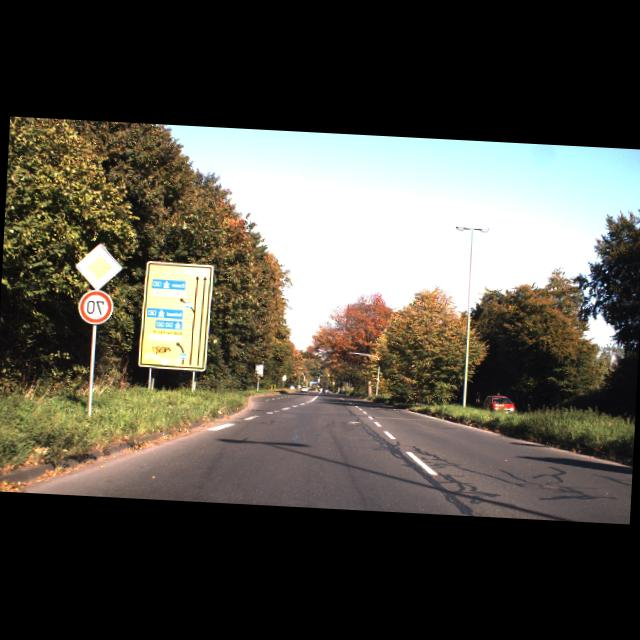other: (75, 242, 124, 291)
prohibitory: (78, 288, 114, 324)
